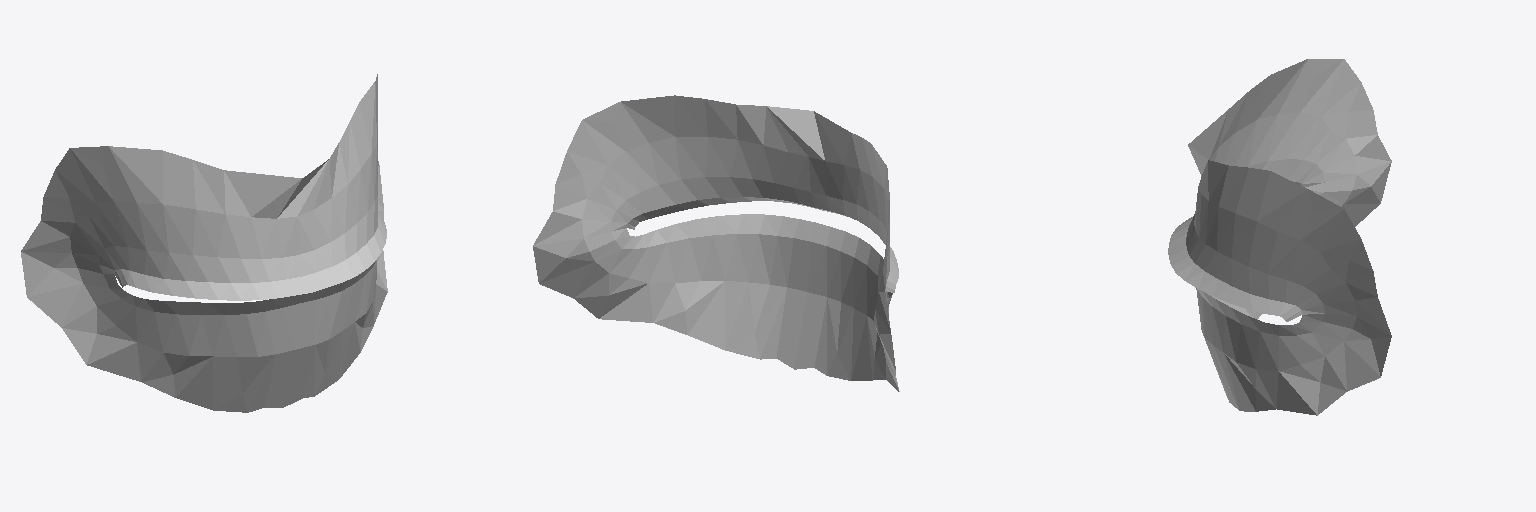
Rendered from innerLipUV.obj.
The picture shows the model from 3 angles: view 1: azimuth 30°, elevation 25°; view 2: azimuth 150°, elevation 25°; view 3: azimuth 270°, elevation 25°; orthographic projection.
Visible parts, largest first — view 1: wholeFace_NasalCartilage3; view 2: wholeFace_NasalCartilage3; view 3: wholeFace_NasalCartilage3.
Boxes of the visible parts, x1=… form: wholeFace_NasalCartilage3: x1=21, y1=74, x2=387, y2=412; wholeFace_NasalCartilage3: x1=533, y1=95, x2=899, y2=391; wholeFace_NasalCartilage3: x1=1168, y1=59, x2=1391, y2=415.
Size of the model in its own units: 5.11 by 3.63 by 2.76.